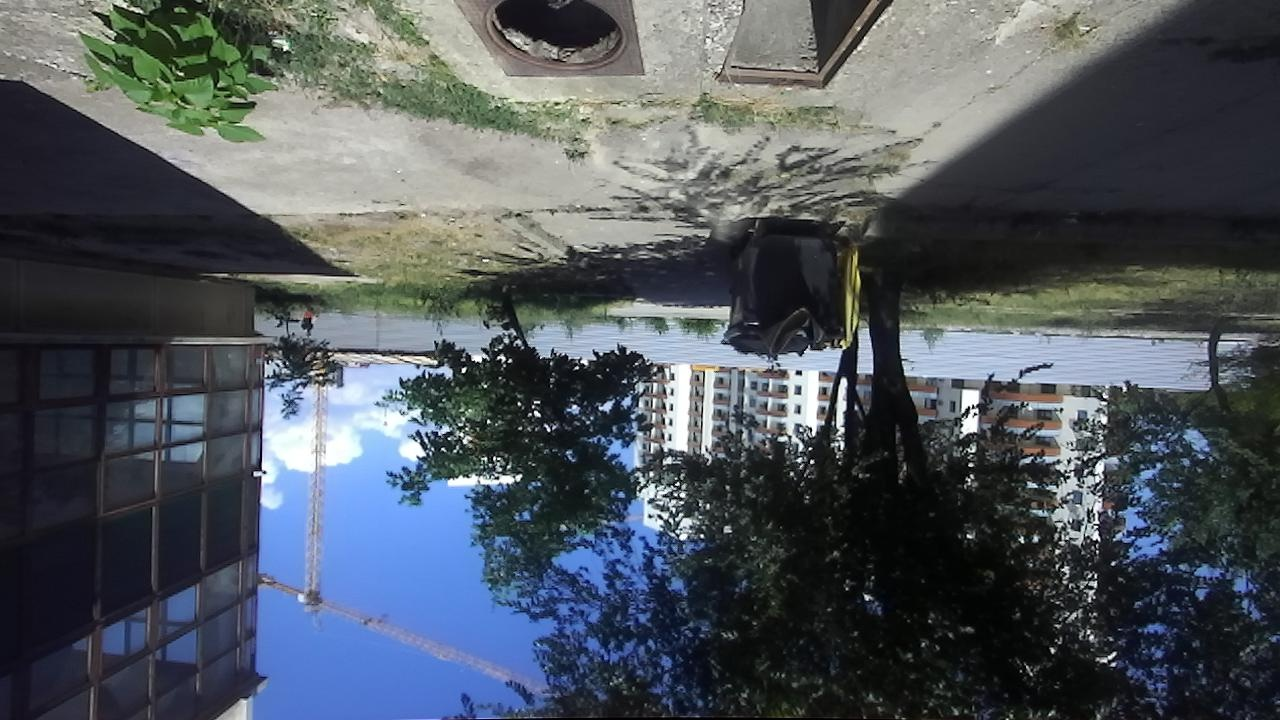drain: (712, 0, 893, 92), (475, 0, 632, 76)
